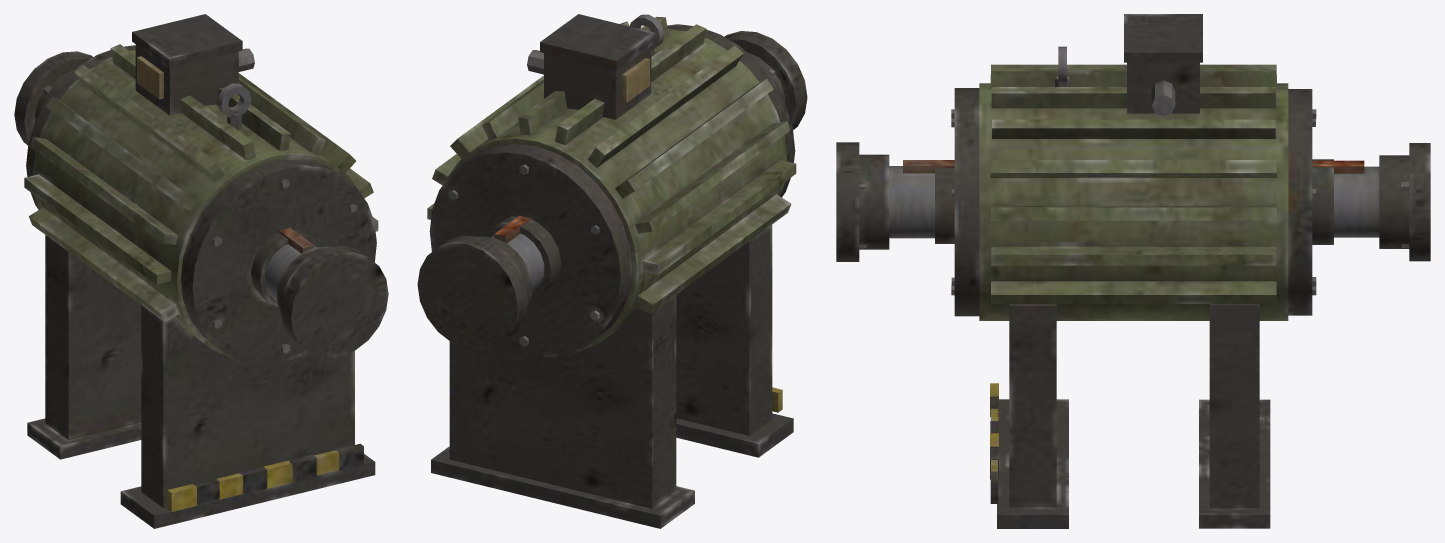
Rendered from feElectricMotor.glb.
The picture shows the model from 3 angles, left to right: view 1: azimuth 30°, elevation 25°; view 2: azimuth 150°, elevation 25°; view 3: azimuth 270°, elevation 25°; orthographic projection. The views are drawn at different scales.
Parts seen in each view (by area): view 1: feElectricMotor_Base, FeSpin_Motor1; view 2: feElectricMotor_Base, FeSpin_Motor1; view 3: feElectricMotor_Base, FeSpin_Motor1.
Part boxes in pixels (box(x1,y1,x2,y2)): feElectricMotor_Base: box(24, 14, 378, 528); FeSpin_Motor1: box(14, 51, 388, 357); feElectricMotor_Base: box(427, 14, 796, 528); FeSpin_Motor1: box(417, 31, 807, 350); feElectricMotor_Base: box(935, 14, 1333, 528); FeSpin_Motor1: box(836, 142, 1430, 261).
Size of the model in its own units: 0.4618 by 0.815 by 1.
1 material, 1 textured.
